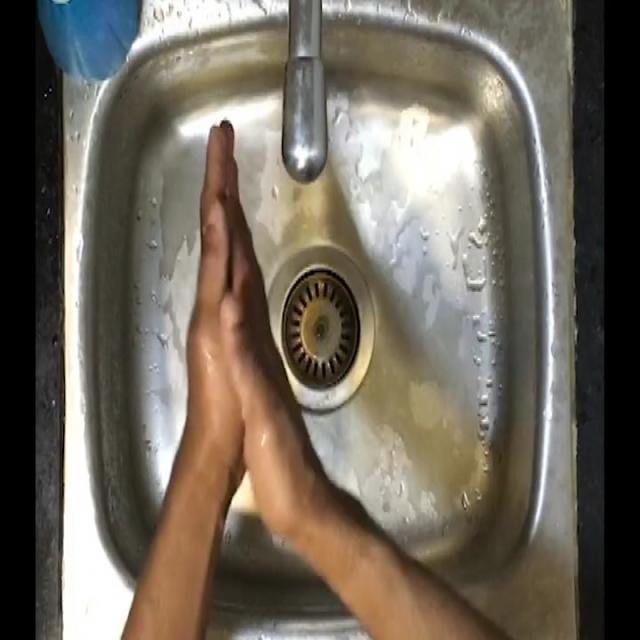step_1: (160, 101, 327, 462)
